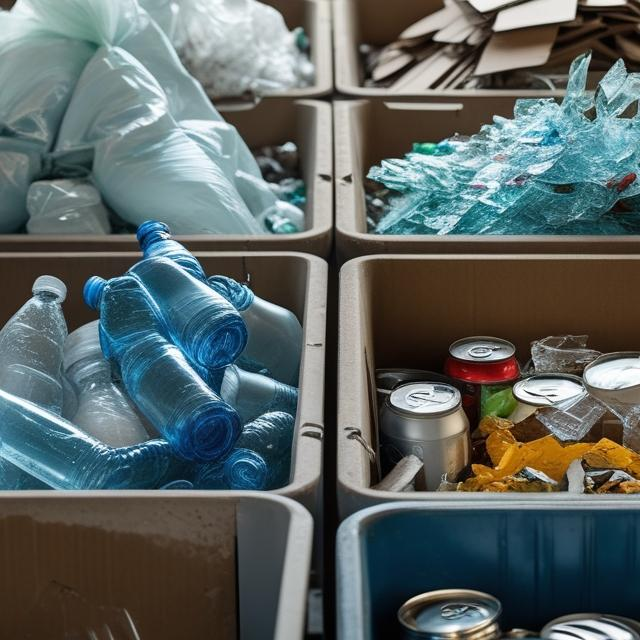plastic: (113, 341, 235, 466)
